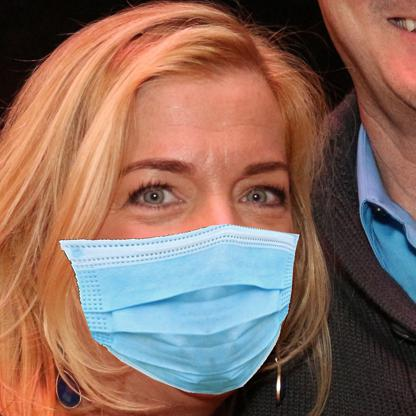mask: (57, 223, 299, 393)
